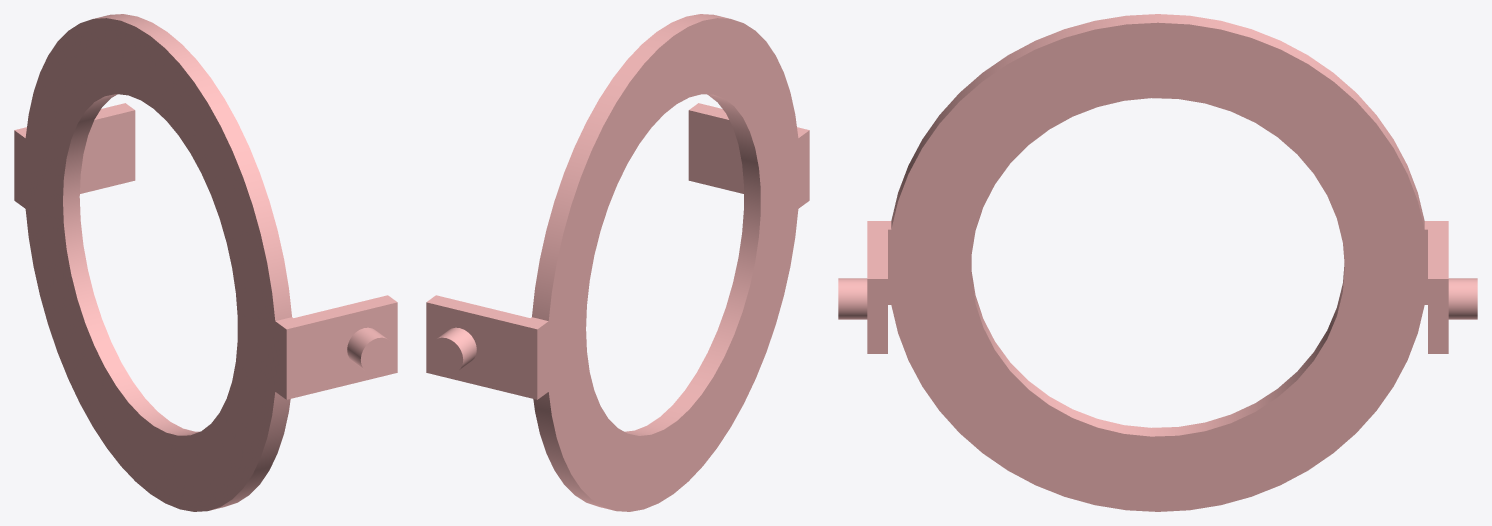
The model's file is joint1Plate.obj.
The picture shows the model from 3 angles, left to right: view 1: azimuth 30°, elevation 25°; view 2: azimuth 150°, elevation 25°; view 3: azimuth 270°, elevation 25°; orthographic projection. The views are drawn at different scales.
Visible parts, largest first — view 1: Root|joint1Plate_(Default)|Default|Default_-_Part; view 2: Root|joint1Plate_(Default)|Default|Default_-_Part; view 3: Root|joint1Plate_(Default)|Default|Default_-_Part.
Boxes of the visible parts, left/top/right/bottom form: Root|joint1Plate_(Default)|Default|Default_-_Part: left=14, top=14, right=397, bottom=511; Root|joint1Plate_(Default)|Default|Default_-_Part: left=426, top=14, right=809, bottom=511; Root|joint1Plate_(Default)|Default|Default_-_Part: left=838, top=14, right=1477, bottom=511.
Size of the model in its own units: 0.033 by 0.13 by 0.154.
